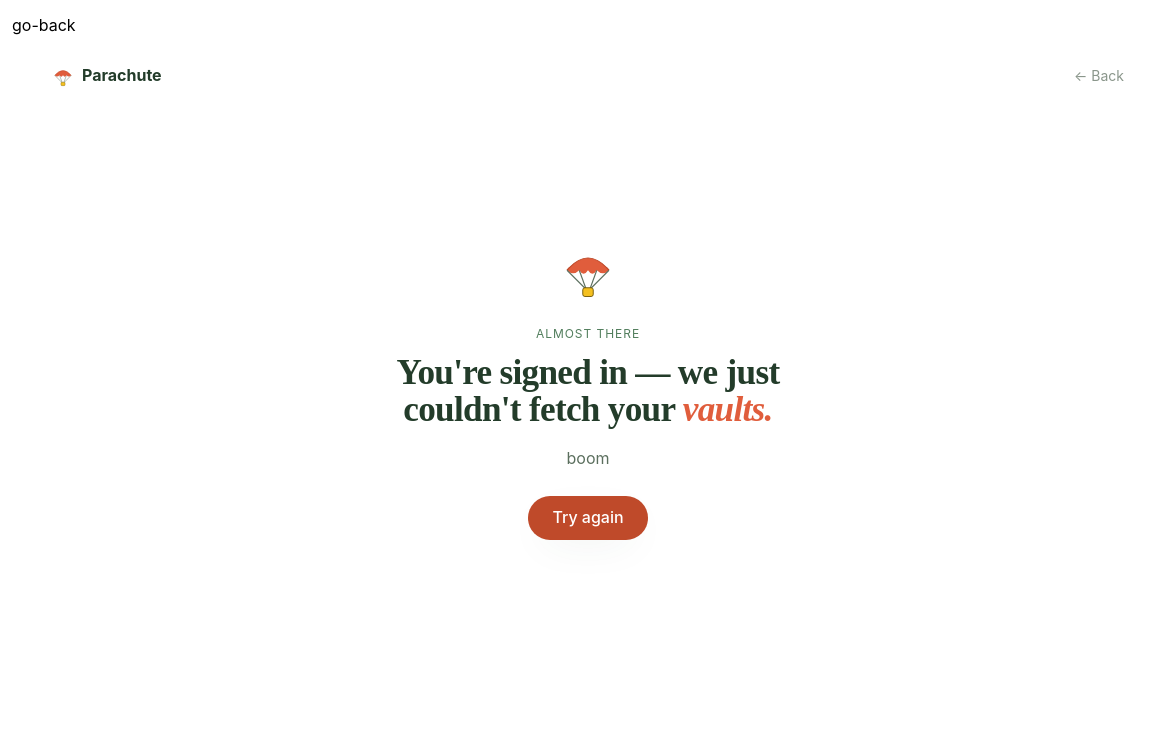
Test: Welcome (the post-sign-in dispatcher) › net-error (signed in, vault list fetch fails) › shows the weather card with a retry
The width and height of the screenshot is (1164, 732).
Expected: the heading "You're signed in — we just couldn't fetch your vaults." is shown, x1=364 y1=355 x2=812 y2=429
Expected: the button "← Back" is shown, x1=1074 y1=66 x2=1124 y2=86
Click the button "Try again" at x=588, y=518, box x1=528 y1=496 x2=648 y2=540
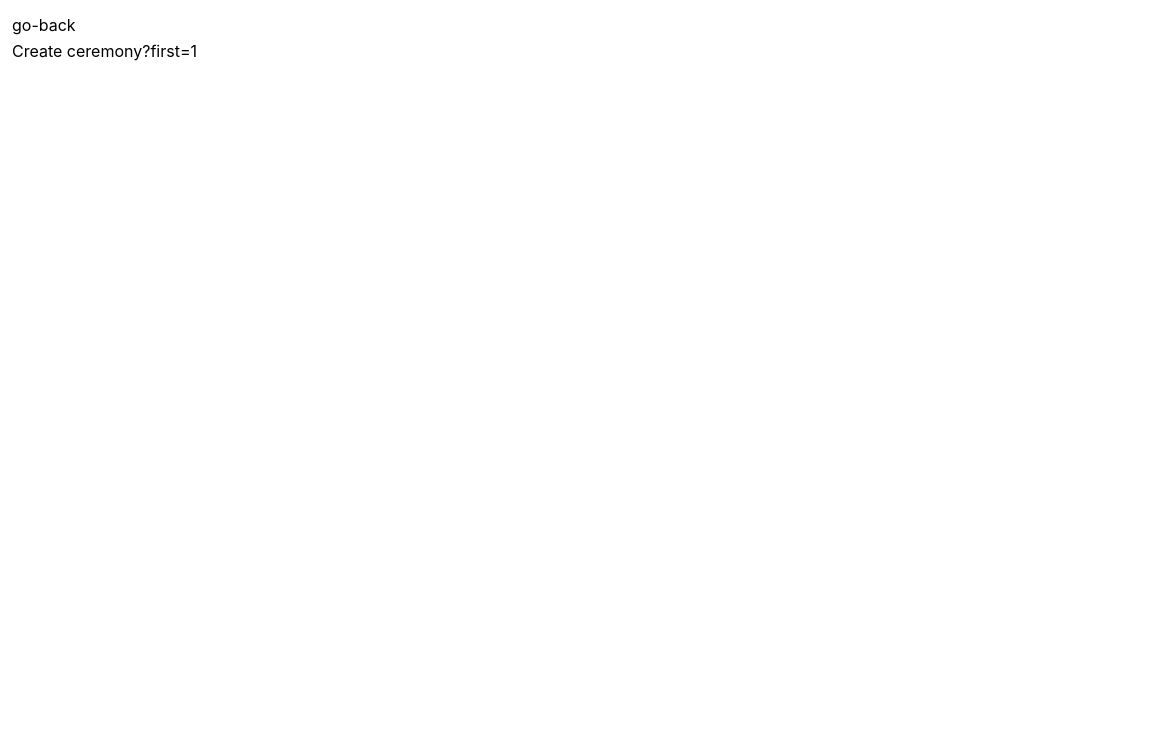
Expected: the text "Create ceremony?first=1" is shown, x1=12 y1=41 x2=197 y2=61
